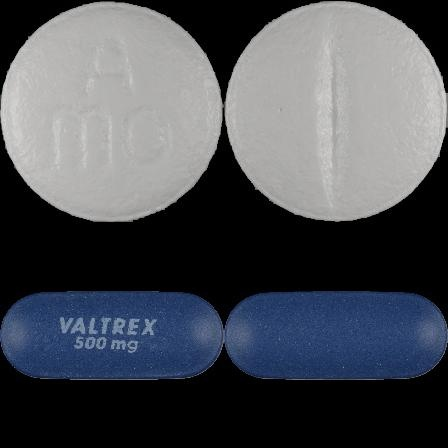49999-483: (0, 0, 224, 224)
